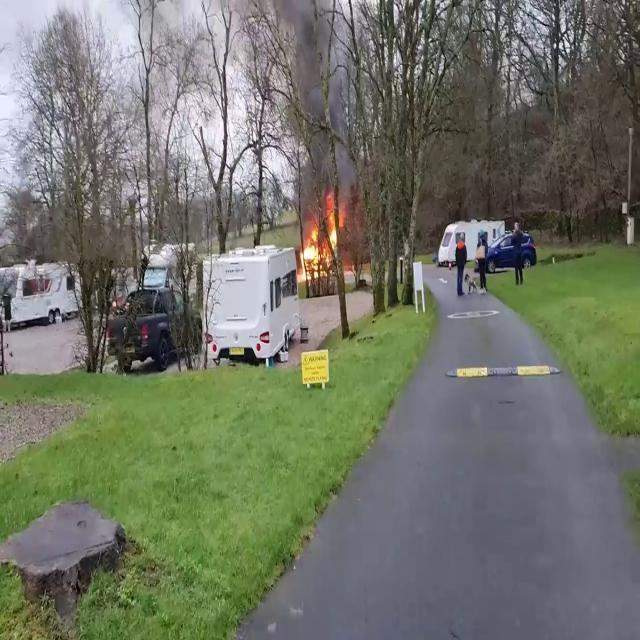Fire: (296, 196, 344, 282)
Smoke: (282, 5, 354, 214)
